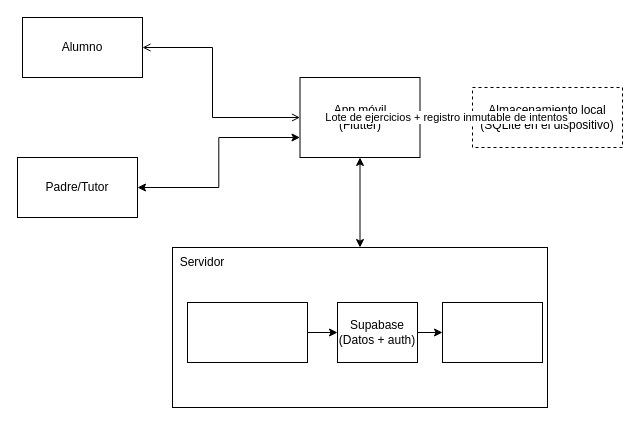
Image size: 640x425. Some labels were removed from this diagram. Here are the shapes that lost their labels. From the top down, the box of each, then its label:
(186, 302, 308, 362): Backend (Python + FastAPI)
(442, 302, 542, 362): IA generativa (API externa · LLM)
